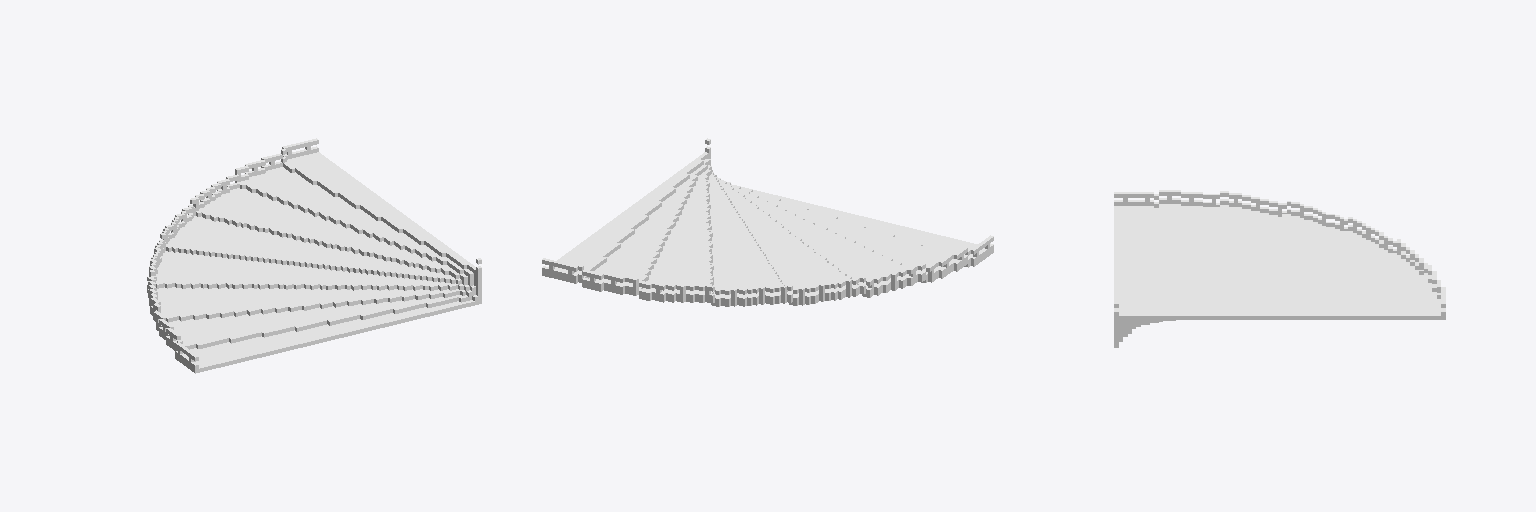
File: Incline_90_right.obj
The picture shows the model from 3 angles: view 1: azimuth 30°, elevation 25°; view 2: azimuth 150°, elevation 25°; view 3: azimuth 270°, elevation 25°; orthographic projection.
Visible parts, largest first — view 1: Incline_90_right; view 2: Incline_90_right; view 3: Incline_90_right.
Part boxes in pixels (x1,y1,x2,y2): Incline_90_right: (147,138,481,373); Incline_90_right: (542,138,993,306); Incline_90_right: (1114,190,1445,347).
Size of the model in its own units: 75 by 11 by 75.